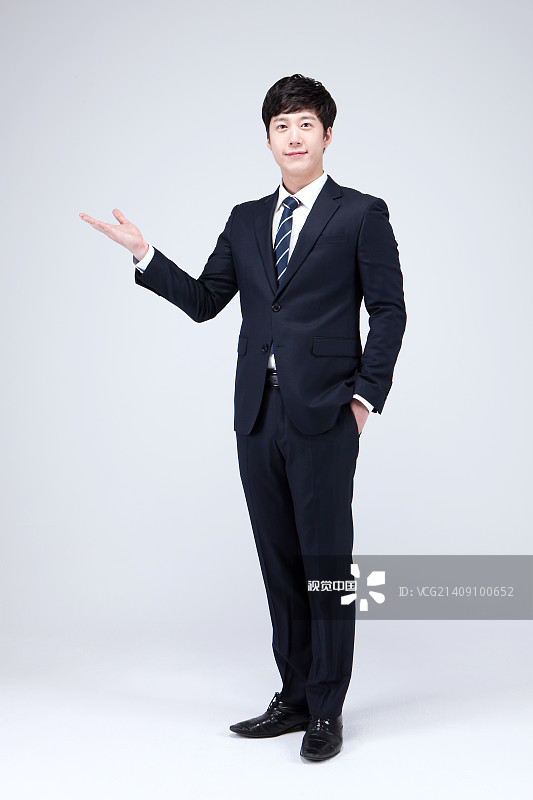no-phone: (64, 187, 157, 269)
